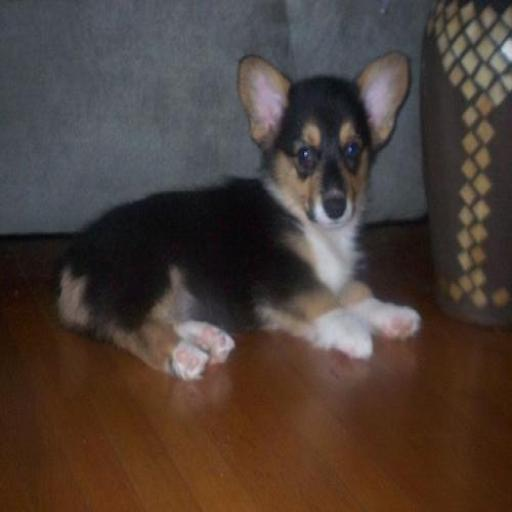dog_face: (234, 50, 419, 220)
